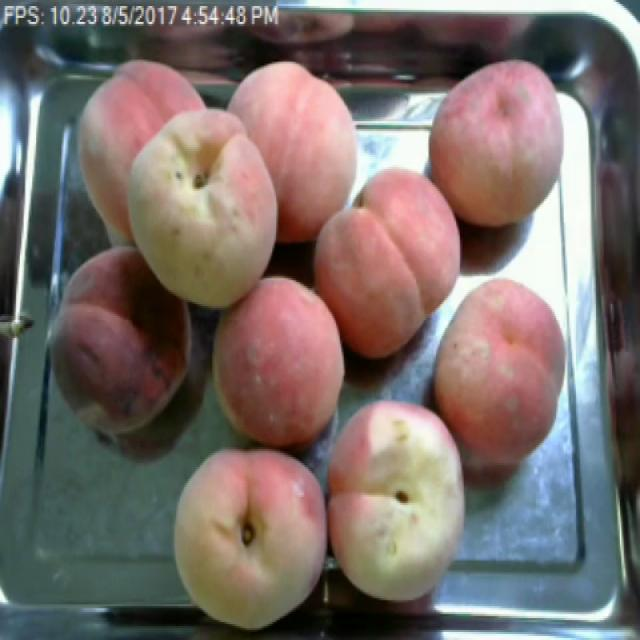Fruit: (116, 95, 291, 320), (418, 266, 582, 501), (300, 155, 475, 372), (36, 235, 205, 453), (326, 384, 482, 610), (162, 431, 330, 638), (217, 50, 375, 252), (201, 266, 363, 463), (419, 45, 581, 238)
